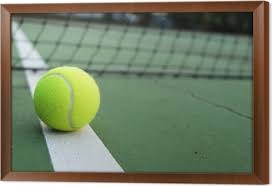tennis_ball: (32, 64, 101, 133)
